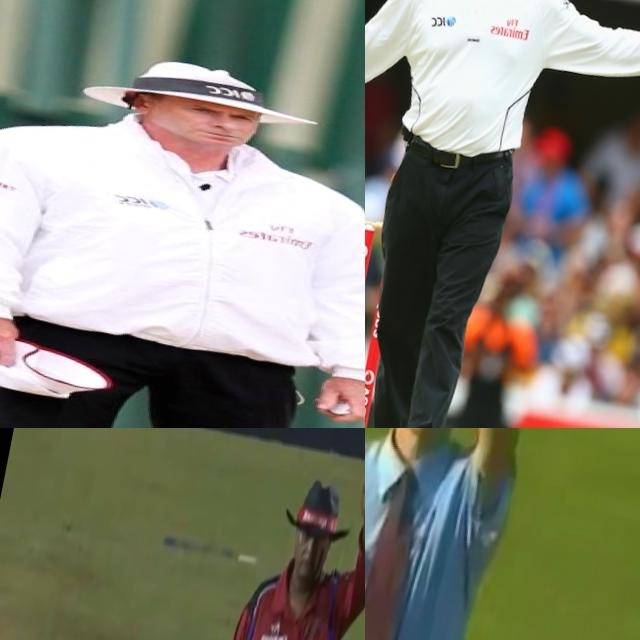No_Action: (0, 5, 365, 428)
No_Ball: (365, 0, 640, 428)
Out: (365, 428, 573, 640), (165, 428, 365, 640)
